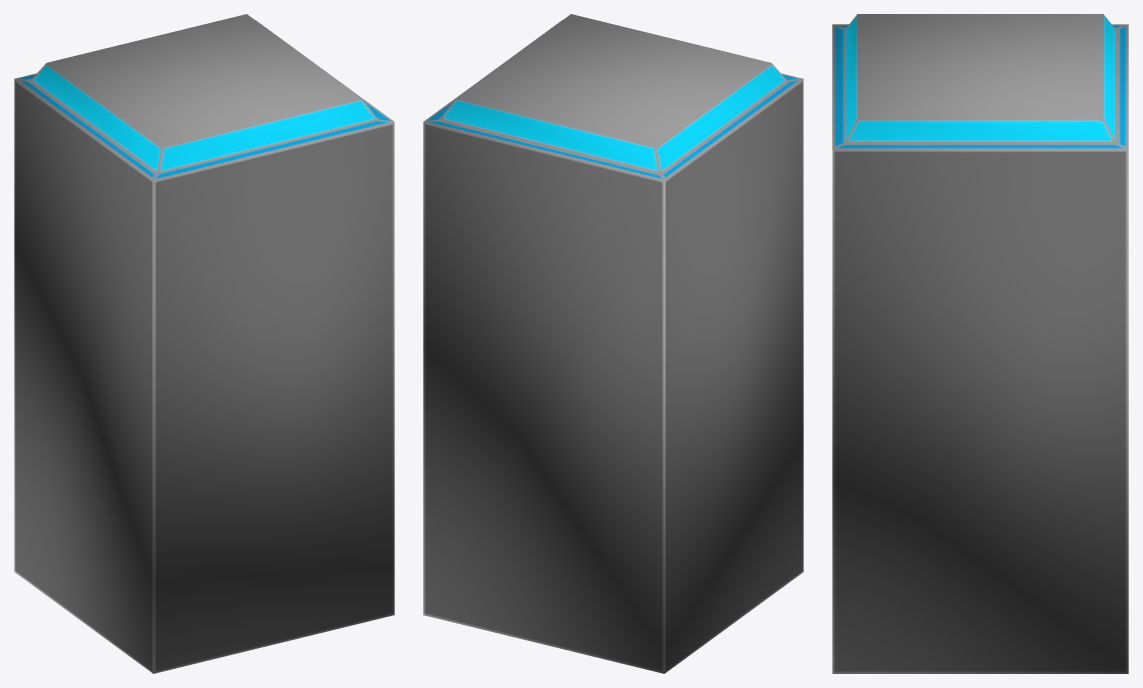
File: skyscraper01.obj
3 views of the same model, side by side, from view 1: azimuth 30°, elevation 25°; view 2: azimuth 150°, elevation 25°; view 3: azimuth 270°, elevation 25° (orthographic). The views are drawn at different scales.
Parts seen in each view (by area): view 1: cube3_copy10; view 2: cube3_copy10; view 3: cube3_copy10.
Boxes of the visible parts, x1,y1,x2,y2 form: cube3_copy10: (14,14,394,673); cube3_copy10: (423,14,803,673); cube3_copy10: (832,14,1128,673).
Size of the model in its own units: 0.77 by 1.56 by 0.77.
1 material, 1 textured.
